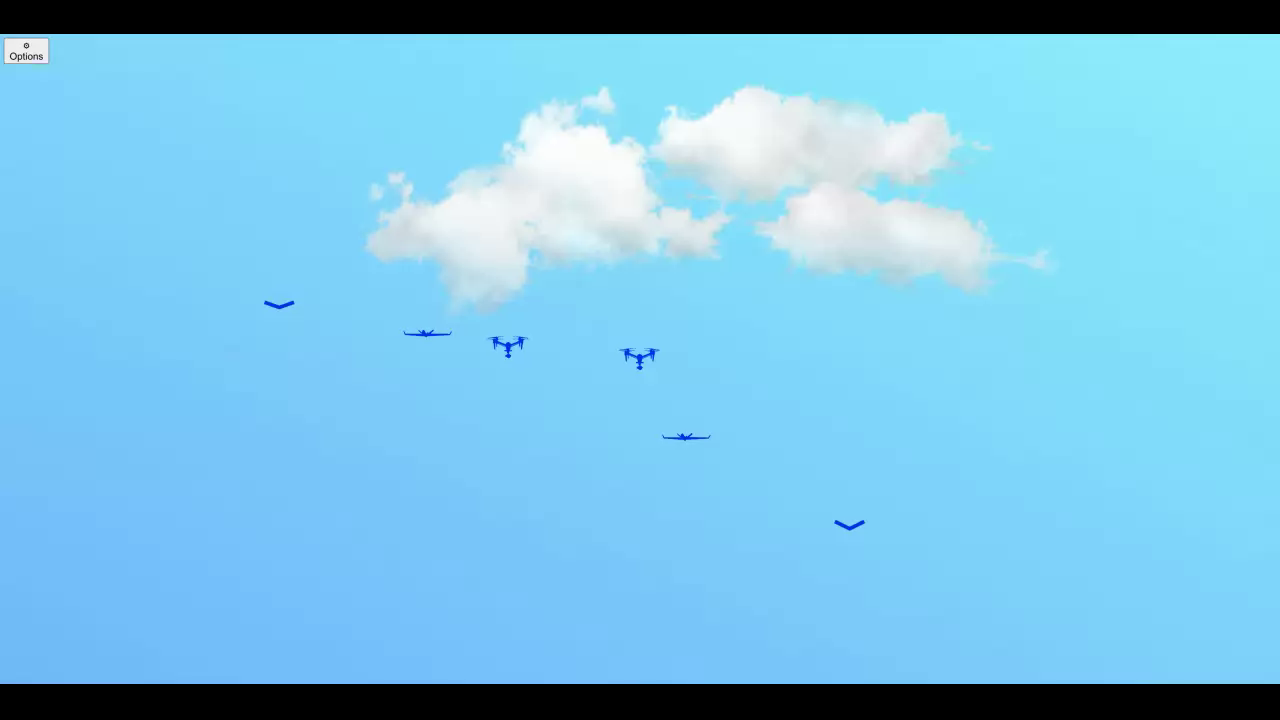Bird: (816, 509, 883, 543), (260, 290, 303, 328)
Drone: (648, 424, 717, 452), (400, 317, 455, 349)
Quadcopter: (476, 322, 535, 371), (612, 336, 672, 380)
